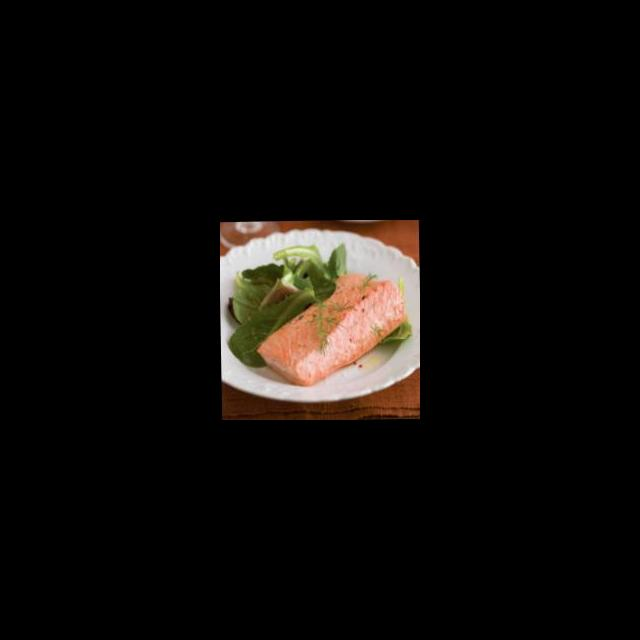ca hoi: (255, 267, 410, 390)
